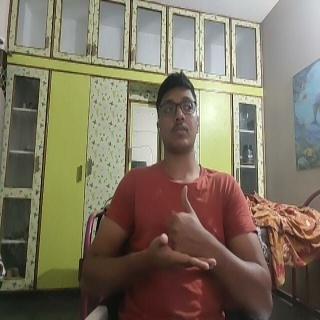Face: (154, 72, 201, 157)
Help: (146, 182, 220, 274)
